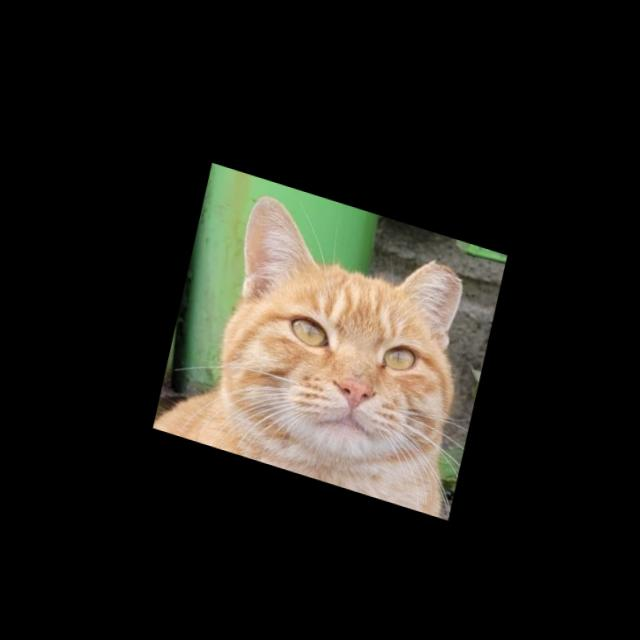animals: (175, 177, 498, 504)
